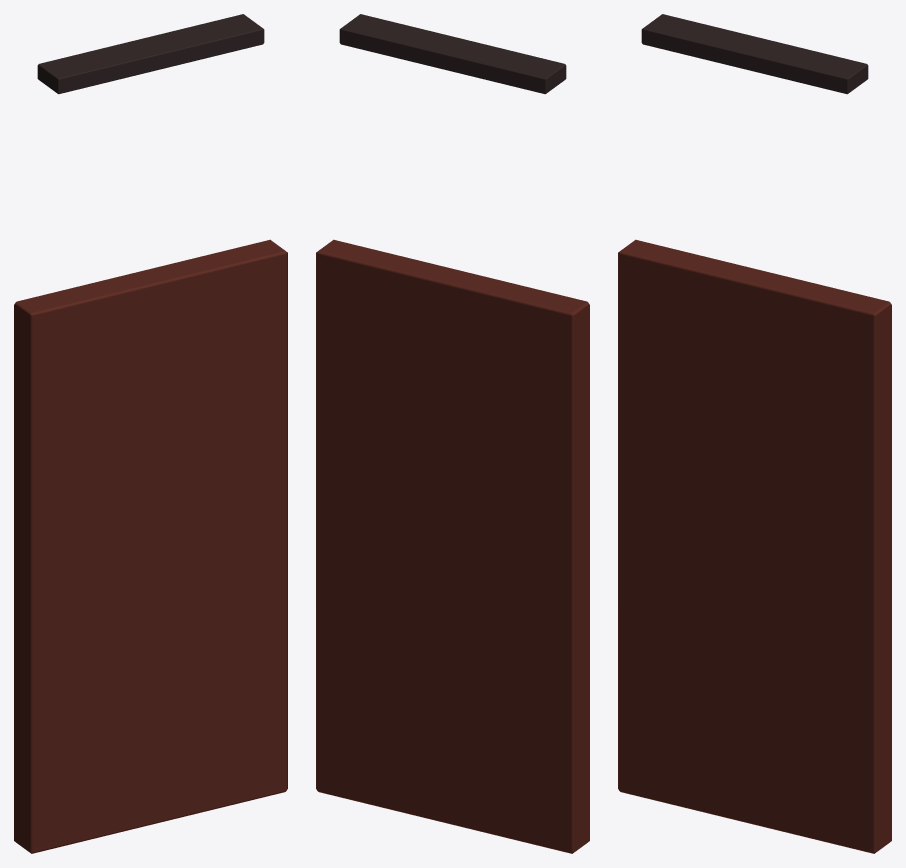
File: railcar-window-sill.c3ec4e17.glb
The picture shows the model from 3 angles, left to right: view 1: azimuth 30°, elevation 25°; view 2: azimuth 150°, elevation 25°; view 3: azimuth 330°, elevation 25°; orthographic projection.
Visible parts, largest first — view 1: body; view 2: body; view 3: body.
Part boxes in pixels (bbox=[...]): body: bbox=[14, 14, 287, 853]; body: bbox=[316, 14, 589, 853]; body: bbox=[618, 14, 891, 853].
Size of the model in its own units: 1 by 2.85 by 0.14.
